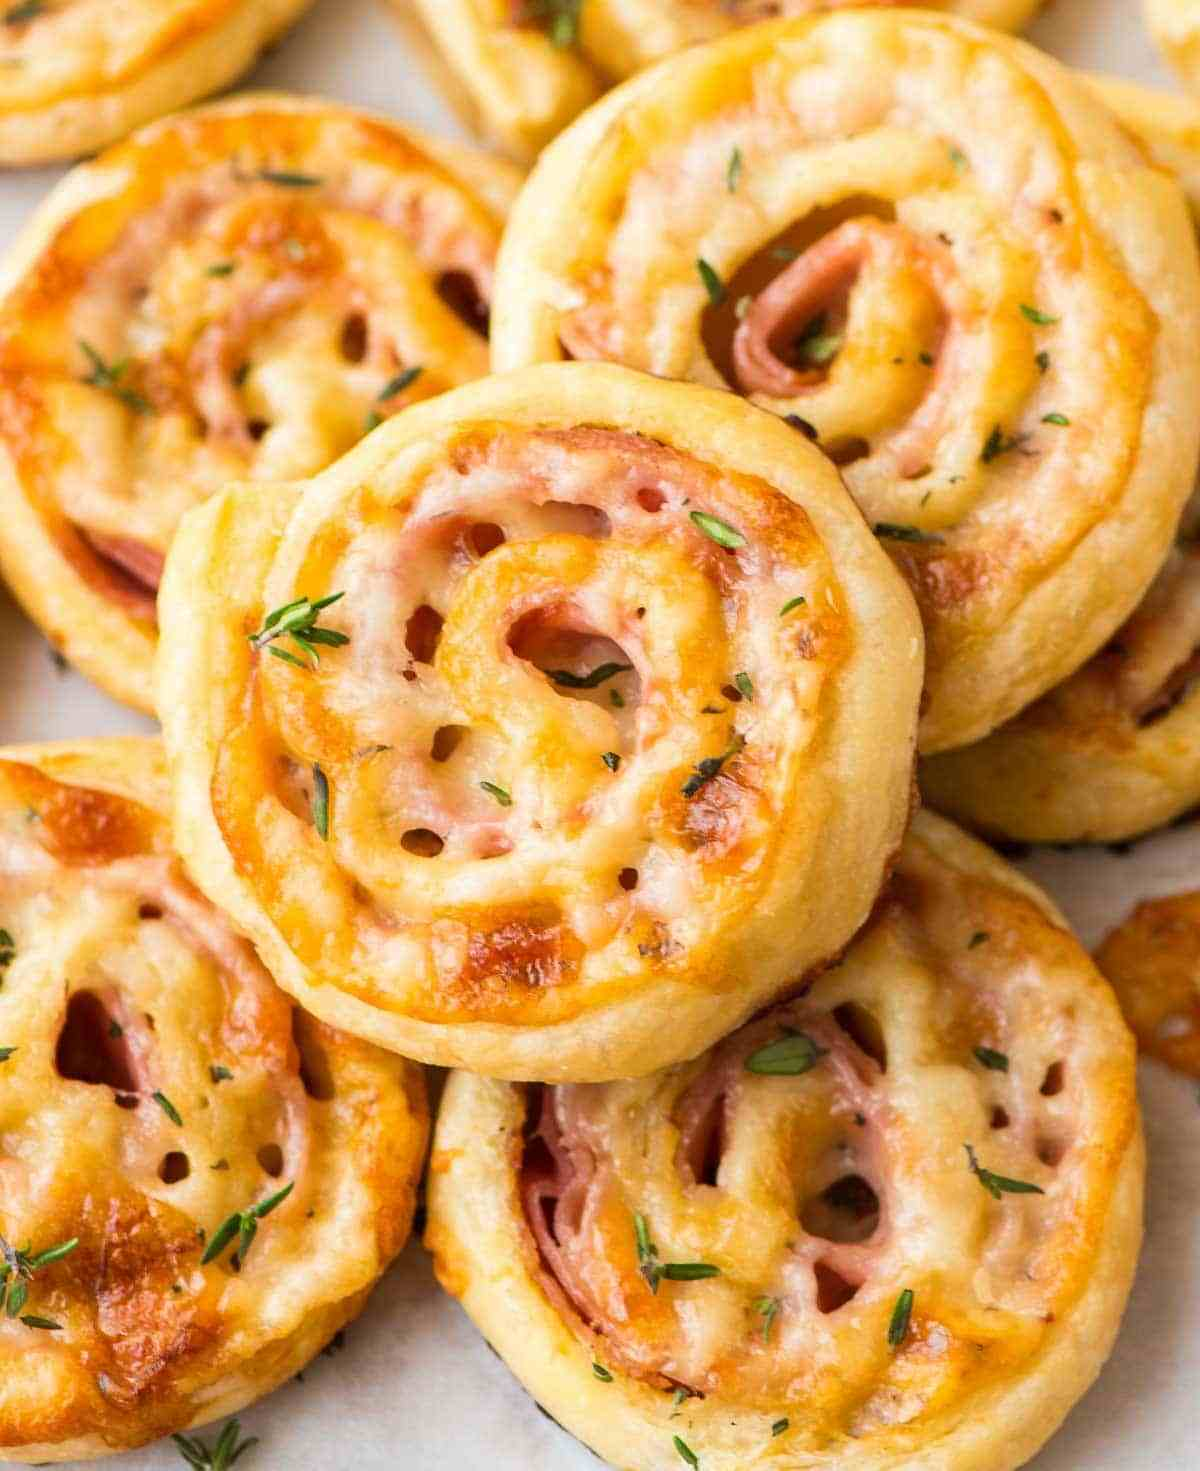cheese: (189, 341, 863, 1063), (521, 778, 1193, 1444), (475, 48, 1085, 566), (29, 110, 276, 443)
